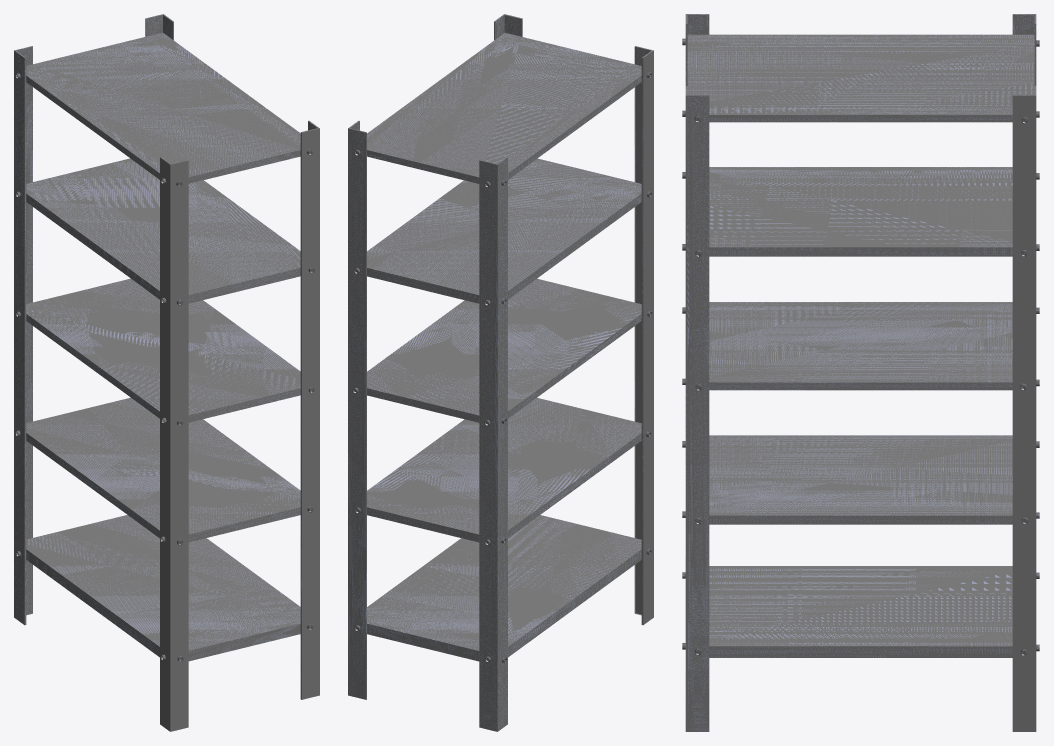
Rendered from shelf.dae.
The picture shows the model from 3 angles, left to right: view 1: azimuth 30°, elevation 25°; view 2: azimuth 150°, elevation 25°; view 3: azimuth 270°, elevation 25°; orthographic projection. The views are drawn at different scales.
Parts seen in each view (by area): view 1: SketchUp (×4); view 2: SketchUp (×2); view 3: SketchUp (×2).
Boxes of the visible parts, <box> form: SketchUp (×4): <box>14,14,319,731</box>; SketchUp (×2): <box>348,14,653,731</box>; SketchUp (×2): <box>685,14,1036,731</box>.
Size of the model in its own units: 96.85 by 173 by 340.
